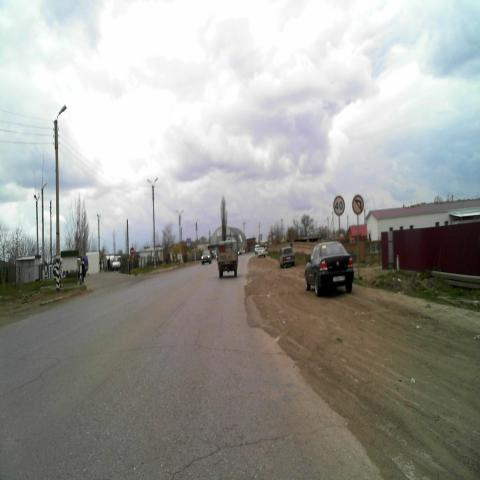3_18_2: (352, 194, 364, 215)
